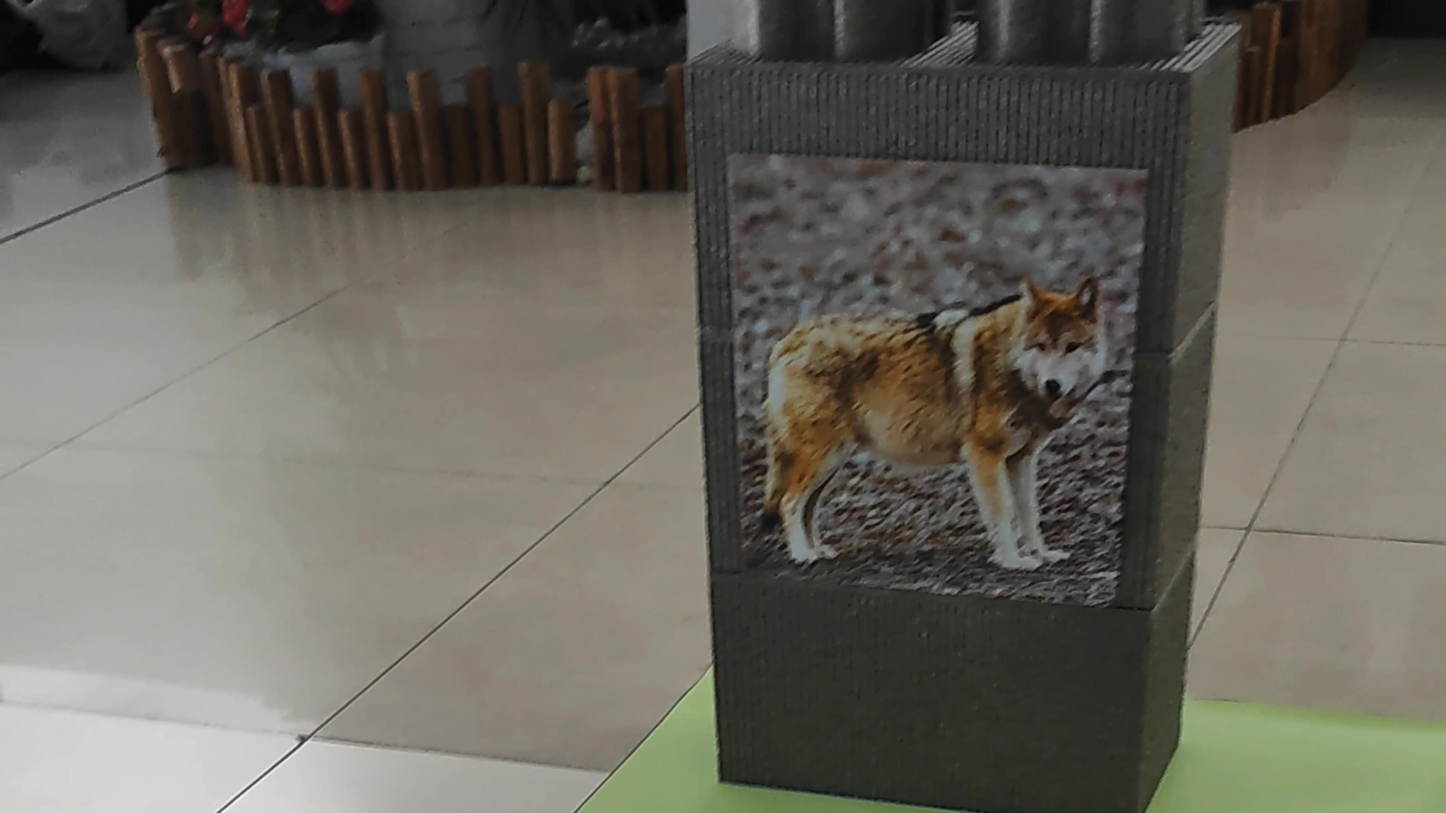wolf: (745, 257, 1110, 572)
